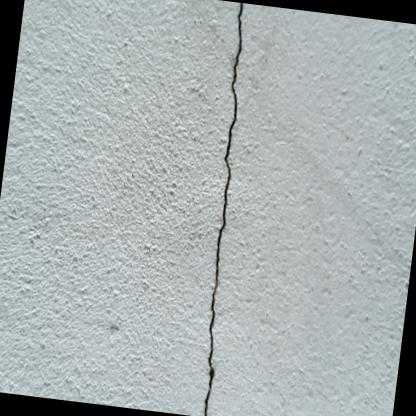crack: (204, 2, 242, 416)
